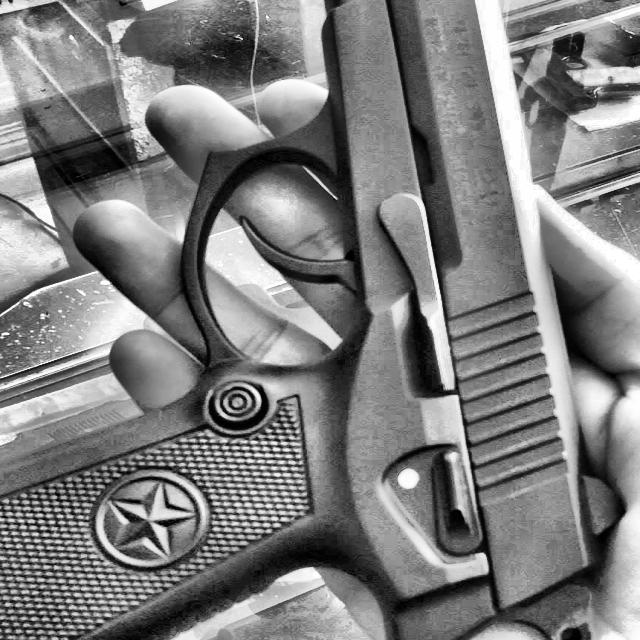Norinco: (0, 0, 618, 640)
